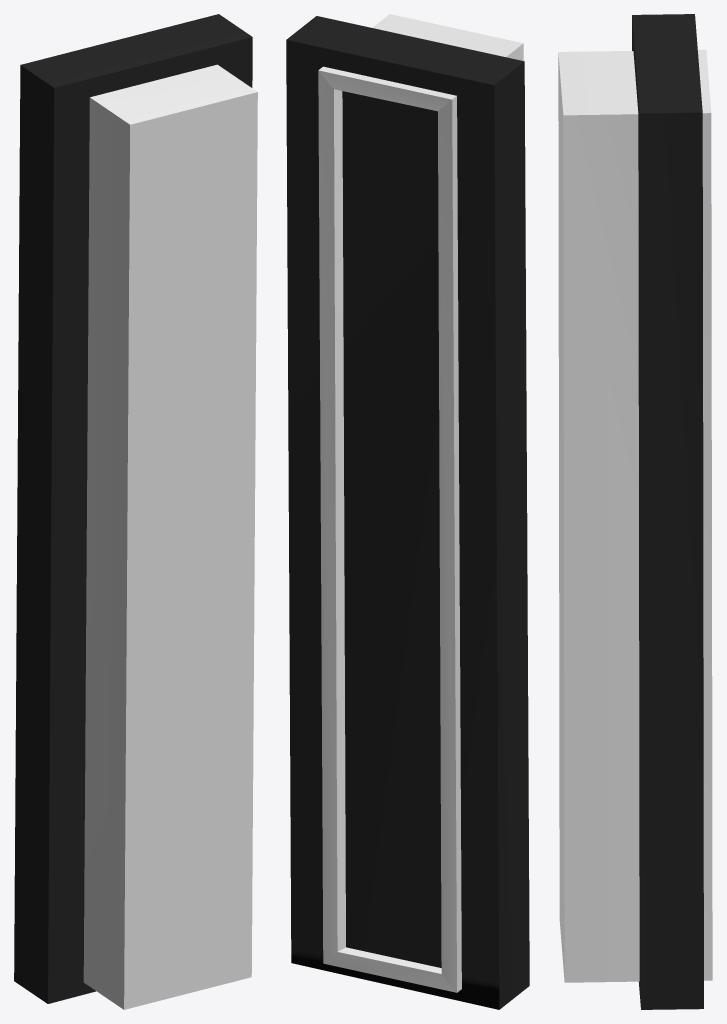
The model's file is StructureLight02_Art.fbx.
The picture shows the model from 3 angles, left to right: view 1: azimuth 30°, elevation 25°; view 2: azimuth 150°, elevation 25°; view 3: azimuth 270°, elevation 25°; orthographic projection. The views are drawn at different scales.
Parts seen in each view (by area): view 1: StructureLight02_Art; view 2: StructureLight02_Art; view 3: StructureLight02_Art.
Part boxes in pixels (x1,y1,x2,y2): StructureLight02_Art: (14,14,257,1009); StructureLight02_Art: (286,14,529,1009); StructureLight02_Art: (558,14,712,1009).
Bounding box in the file's own units: 0.4361 × 1.82 × 0.2819.
